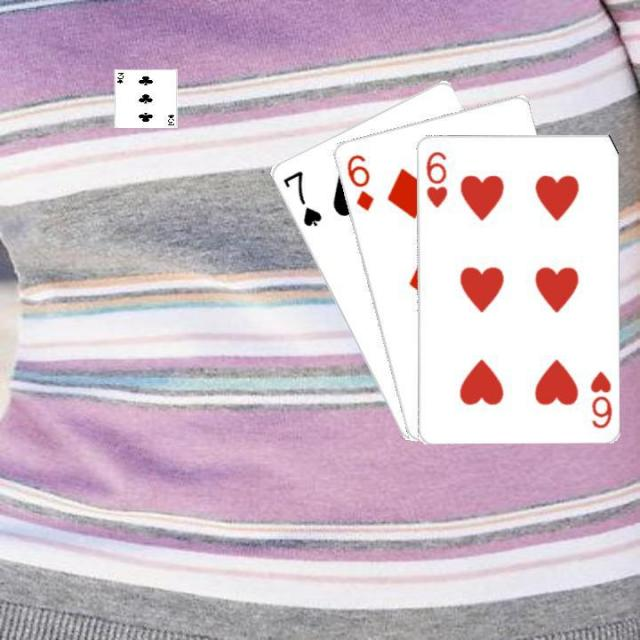6D: (342, 150, 375, 212)
6H: (421, 147, 448, 209), (586, 367, 613, 429)
7S: (278, 167, 324, 229)
